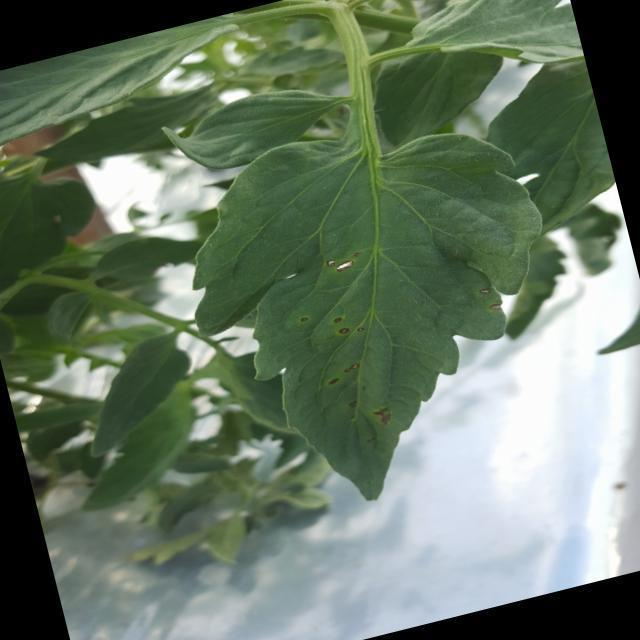Bacterial Spot: (274, 256, 448, 473)
